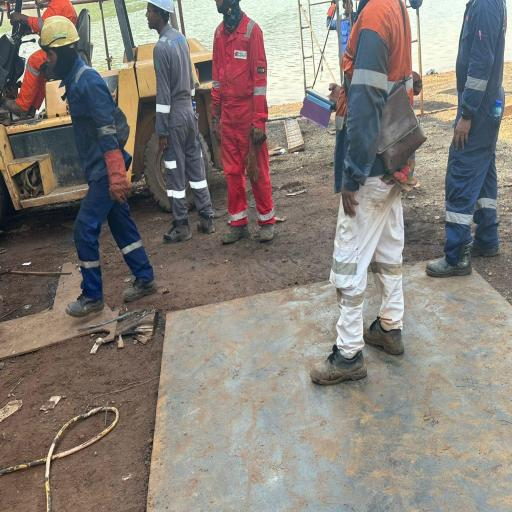safety_shoe: (308, 344, 366, 390), (364, 315, 410, 356), (426, 242, 474, 278), (468, 236, 502, 264), (66, 294, 106, 317), (122, 280, 160, 302), (216, 224, 252, 244), (2, 96, 29, 121), (191, 213, 218, 236), (163, 222, 194, 242), (257, 218, 276, 240)
